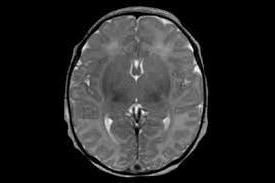Normal_Brain: (44, 1, 230, 177)
